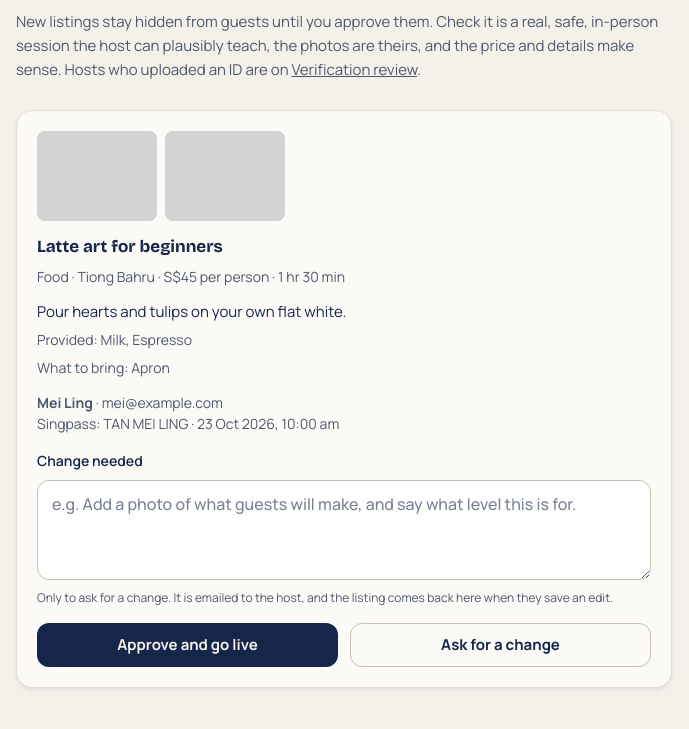
AdminListings › shows the reason when a decision fails
(page scrolled)
Expected: the text "Latte art for beginners" is shown, [37, 236, 223, 257]
Click the button "Approve and go live" at (188, 645), box [37, 623, 338, 667]
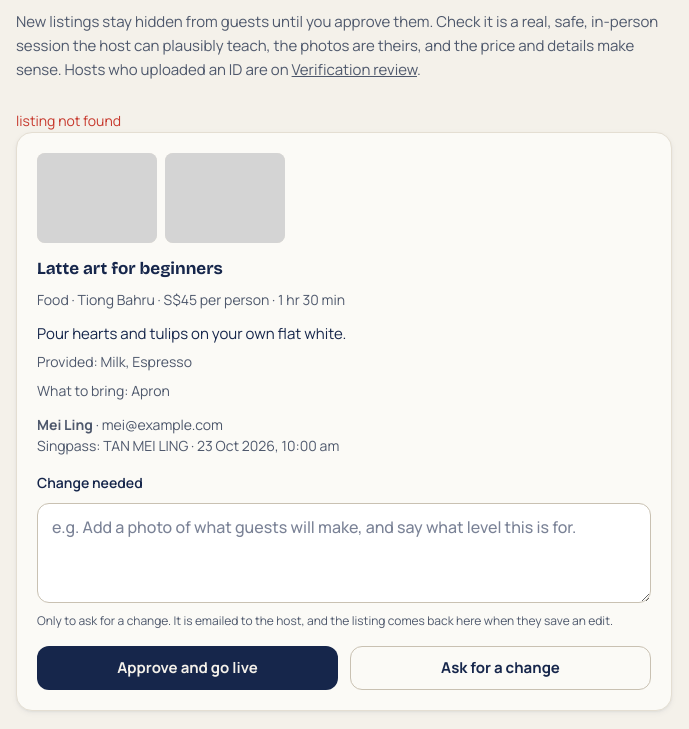
Expected: the button "Approve and go live" is shown, [37, 646, 338, 690]
Expected: the text "listing not found" is shown, [16, 111, 121, 130]
